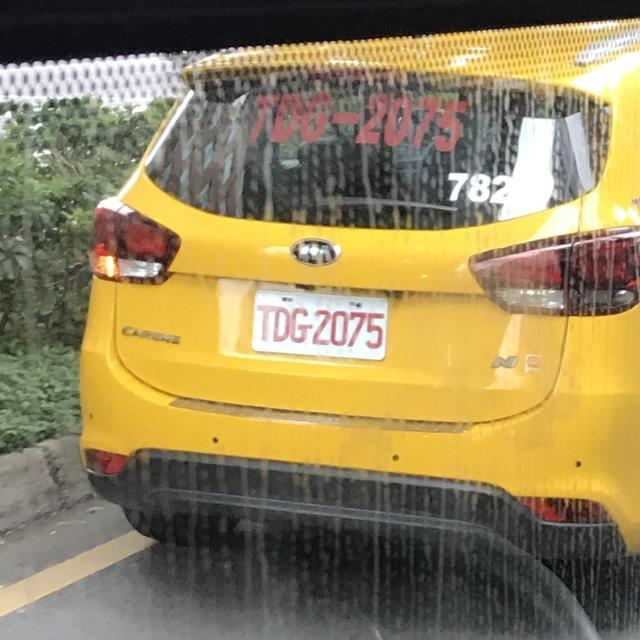WR: (244, 279, 394, 368)
